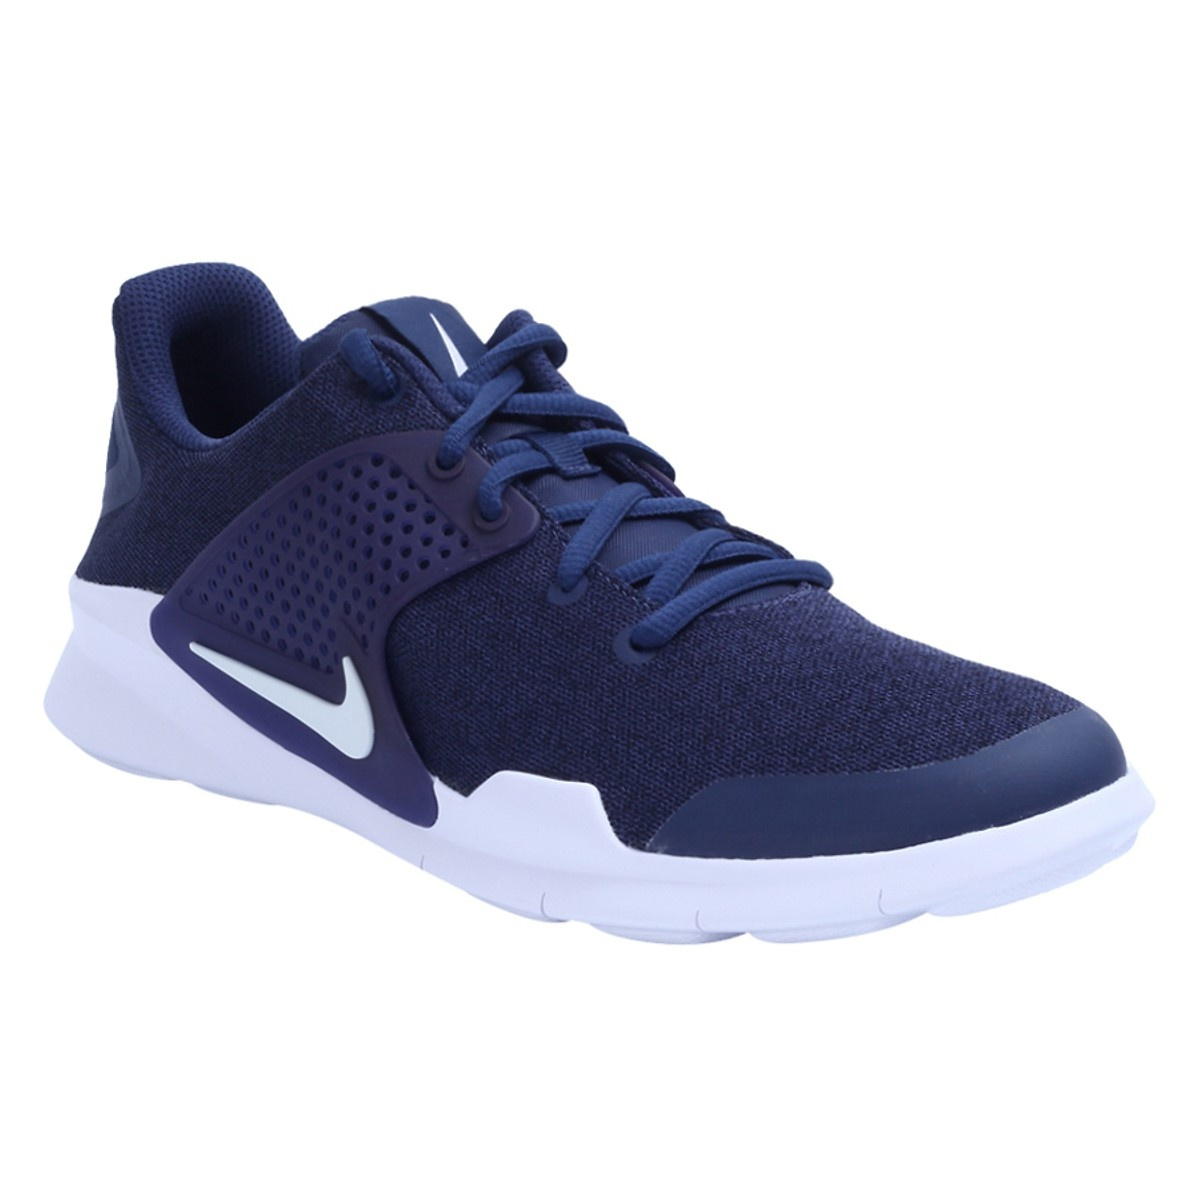Nike: (131, 601, 443, 853)
